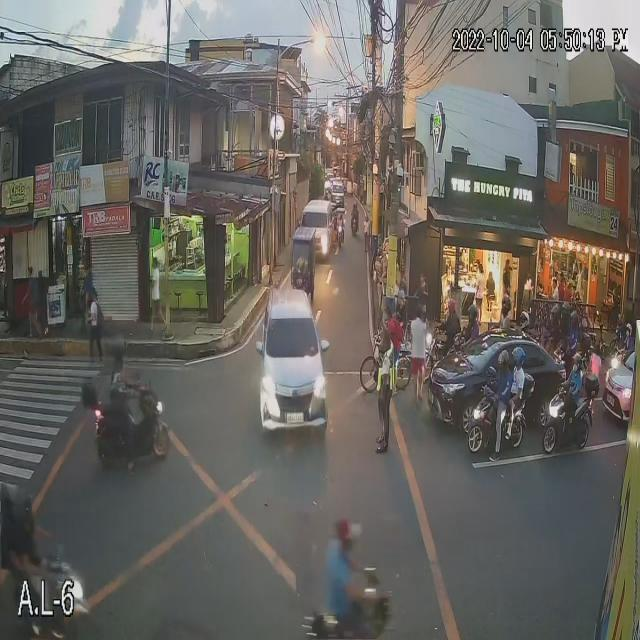helmet: (4, 486, 34, 545), (105, 337, 127, 369), (498, 292, 510, 322), (569, 352, 584, 374), (518, 309, 532, 330), (514, 348, 526, 369), (466, 303, 478, 322), (496, 351, 507, 370), (623, 324, 634, 342), (550, 307, 560, 326), (568, 315, 582, 327), (560, 304, 571, 318), (446, 301, 456, 315)
motorcycle: (0, 540, 90, 640), (93, 392, 169, 470), (466, 385, 527, 455), (544, 382, 601, 453), (418, 330, 456, 382), (331, 210, 346, 245), (347, 203, 359, 236)
rider: (1, 482, 39, 586), (104, 336, 135, 418), (487, 348, 511, 426), (560, 351, 589, 409), (511, 348, 528, 408), (460, 303, 484, 341), (440, 300, 458, 346), (550, 301, 566, 342), (620, 320, 634, 363), (568, 308, 581, 344), (500, 292, 511, 333), (560, 300, 573, 330), (518, 311, 532, 338)
